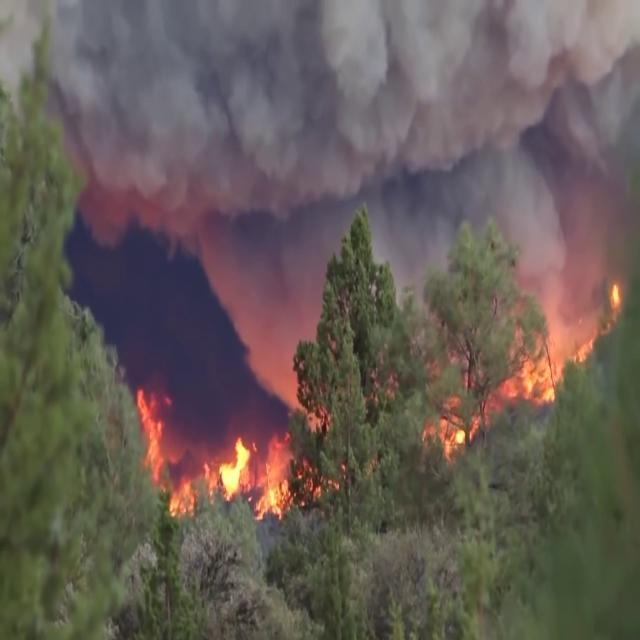Fire: (134, 384, 320, 522), (438, 338, 594, 464), (611, 282, 621, 306)
Smoke: (0, 1, 640, 431)
